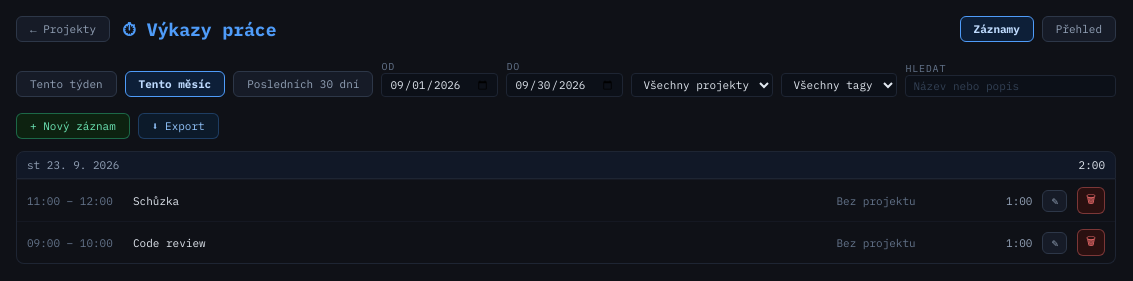
Test: seznam výkazů › hledá i v popisu, nejen v názvu
The image size is (1133, 281).
Expected: the text "Schůzka" is shown, [133,194,179,208]
Type "412" into the field labelled "Hledat". click: (1011,86)
box: [905,75,1116,97]
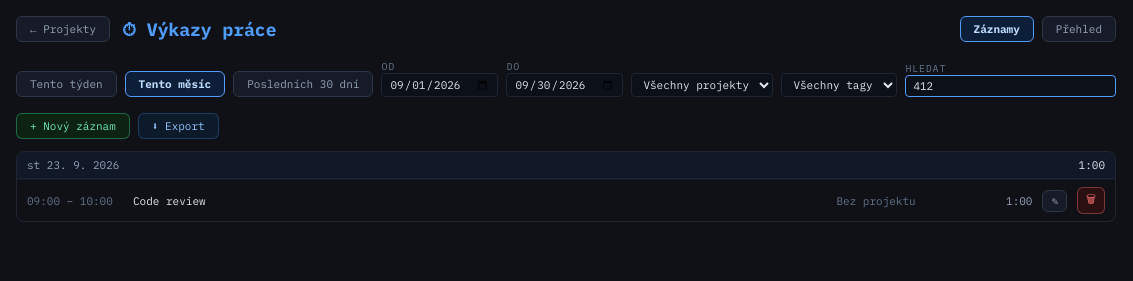
Expected: the text "Code review" is shown, [133,194,206,208]
Expected: the text "Schůzka" is gone
